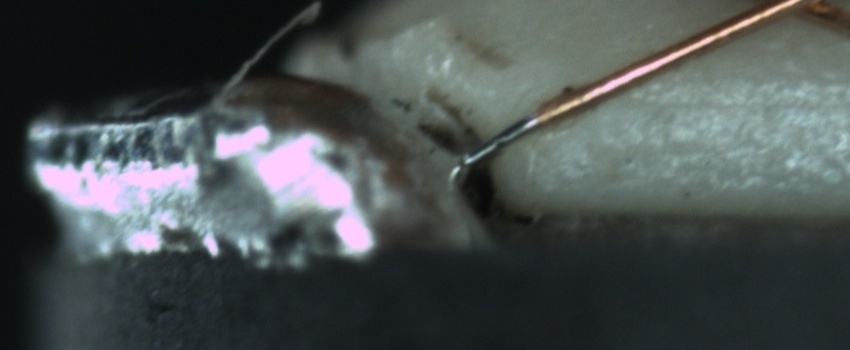CL: (740, 0, 838, 29)
DL: (613, 66, 843, 137)
TS: (464, 114, 540, 167)
TTCW: (463, 99, 558, 166)
